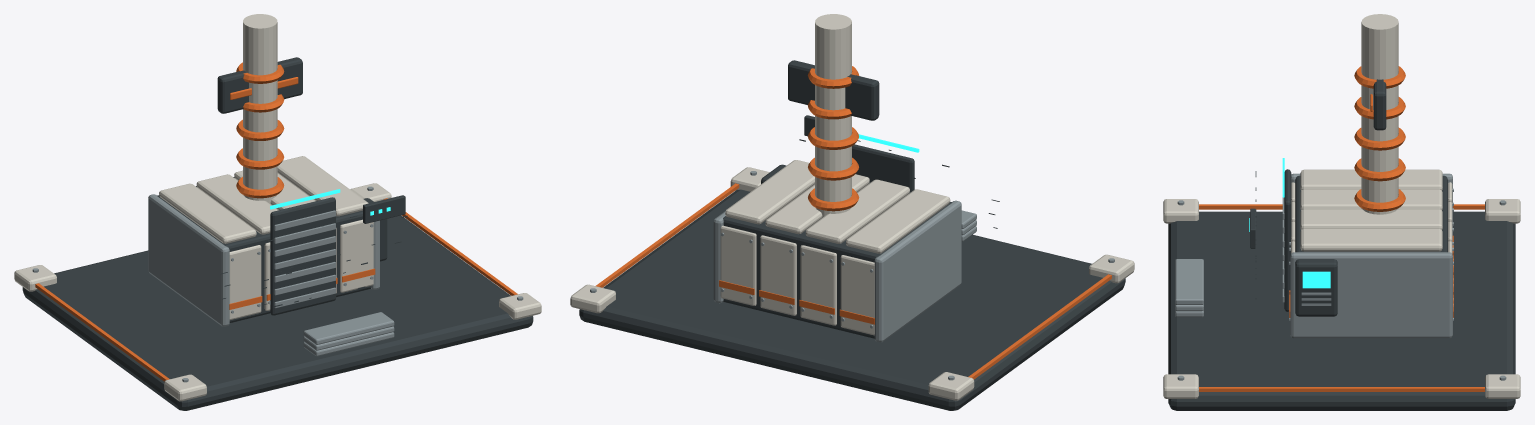
File: SM_TradeBeacon_Body.002.fbx
3 renders of one model, left to right at view 1: azimuth 30°, elevation 25°; view 2: azimuth 150°, elevation 25°; view 3: azimuth 270°, elevation 25°, orthographic. The views are drawn at different scales.
Visible parts, largest first — view 1: SM_TradeBeacon_Body.002; view 2: SM_TradeBeacon_Body.002; view 3: SM_TradeBeacon_Body.002.
Part boxes in pixels (x1,y1,x2,y2): SM_TradeBeacon_Body.002: (14,14,541,410); SM_TradeBeacon_Body.002: (570,14,1134,410); SM_TradeBeacon_Body.002: (1163,14,1520,410).
Bounding box in the file's own units: 532 × 422 × 390.
